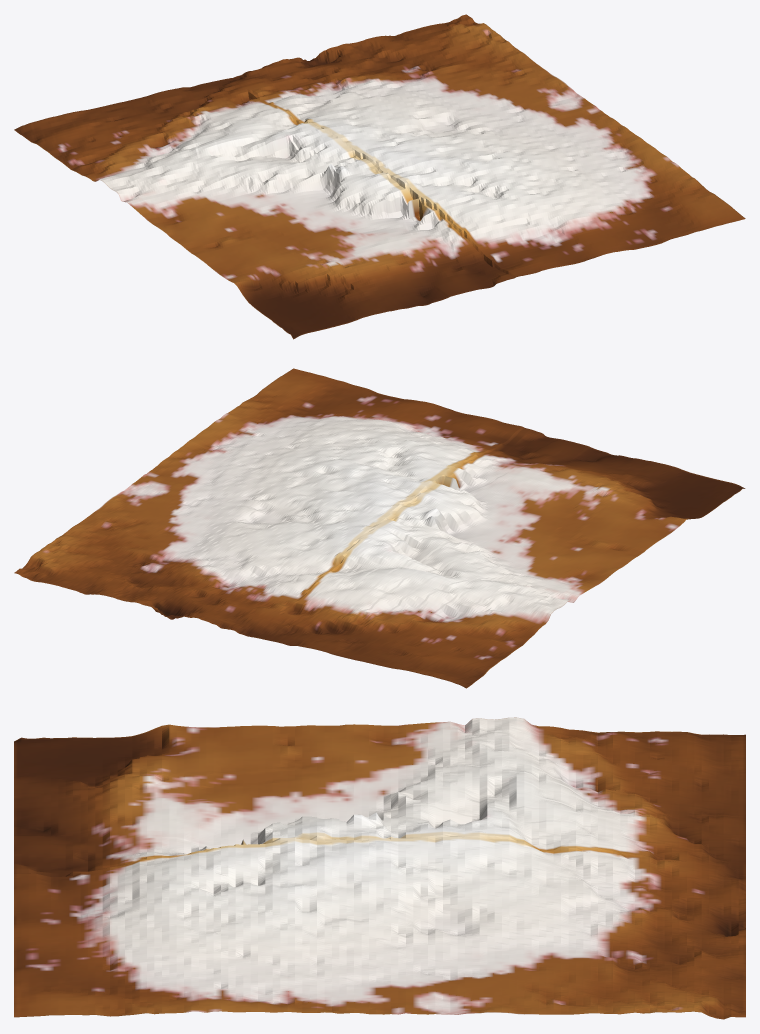
Rendered from region_gory_maksvella.glb.
3 renders of one model, top to bottom at view 1: azimuth 30°, elevation 25°; view 2: azimuth 150°, elevation 25°; view 3: azimuth 270°, elevation 25°, orthographic. The views are drawn at different scales.
Parts seen in each view (by area): view 1: geometry_0; view 2: geometry_0; view 3: geometry_0.
Part boxes in pixels (x1,y1,x2,y2): geometry_0: (14, 14, 745, 339); geometry_0: (14, 368, 745, 688); geometry_0: (14, 717, 745, 1019).
Bounding box in the file's own units: 977 × 67.64 × 1046.
1 material, 1 textured.
